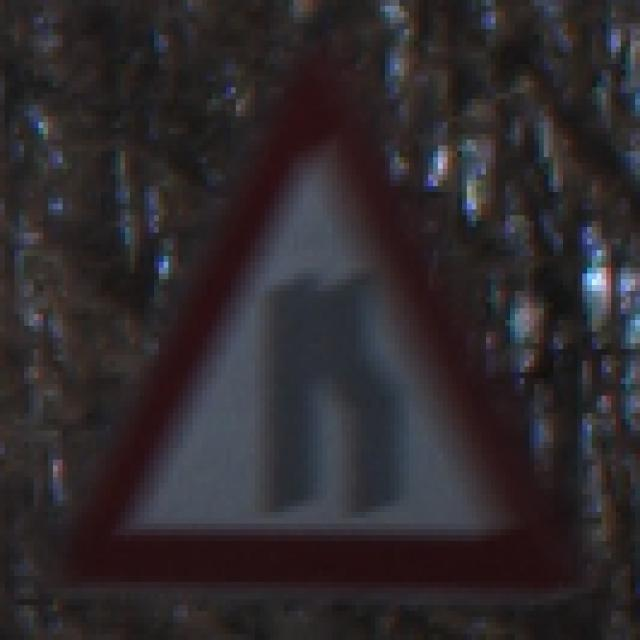narrow road ahead: (44, 26, 596, 617)
